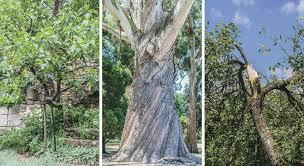Downstairs: (206, 27, 297, 166)
